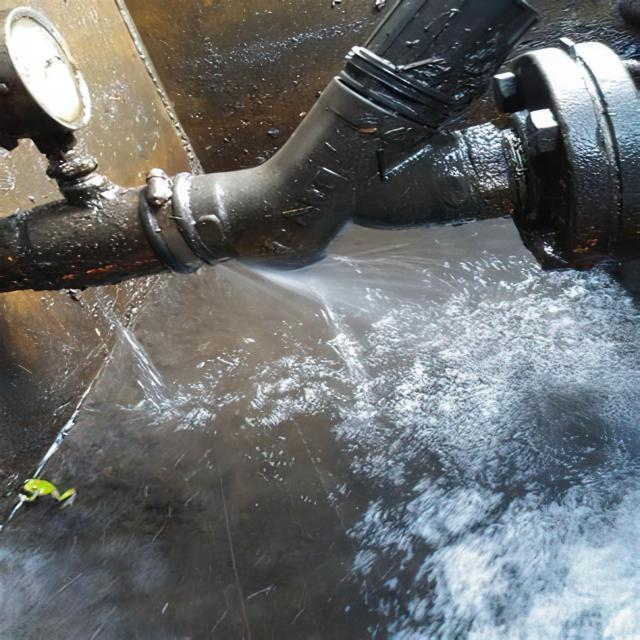pipe burst: (215, 231, 423, 336)
water accumulation: (0, 228, 640, 640)
